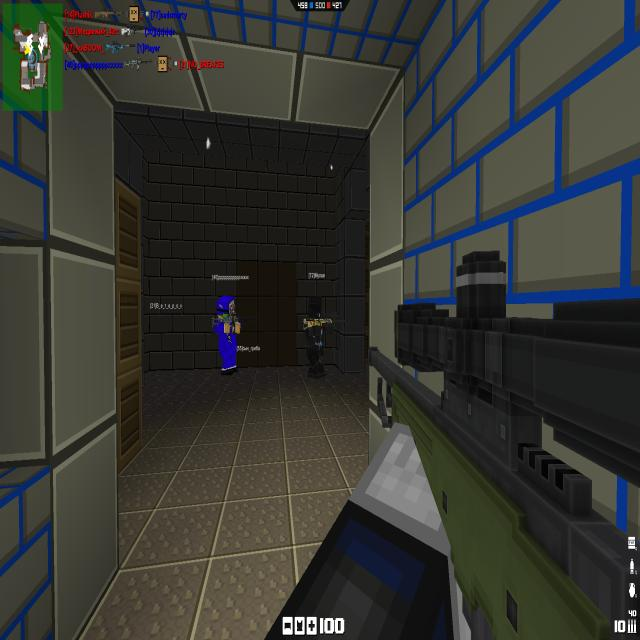player: (304, 298, 332, 377), (213, 294, 240, 375)
